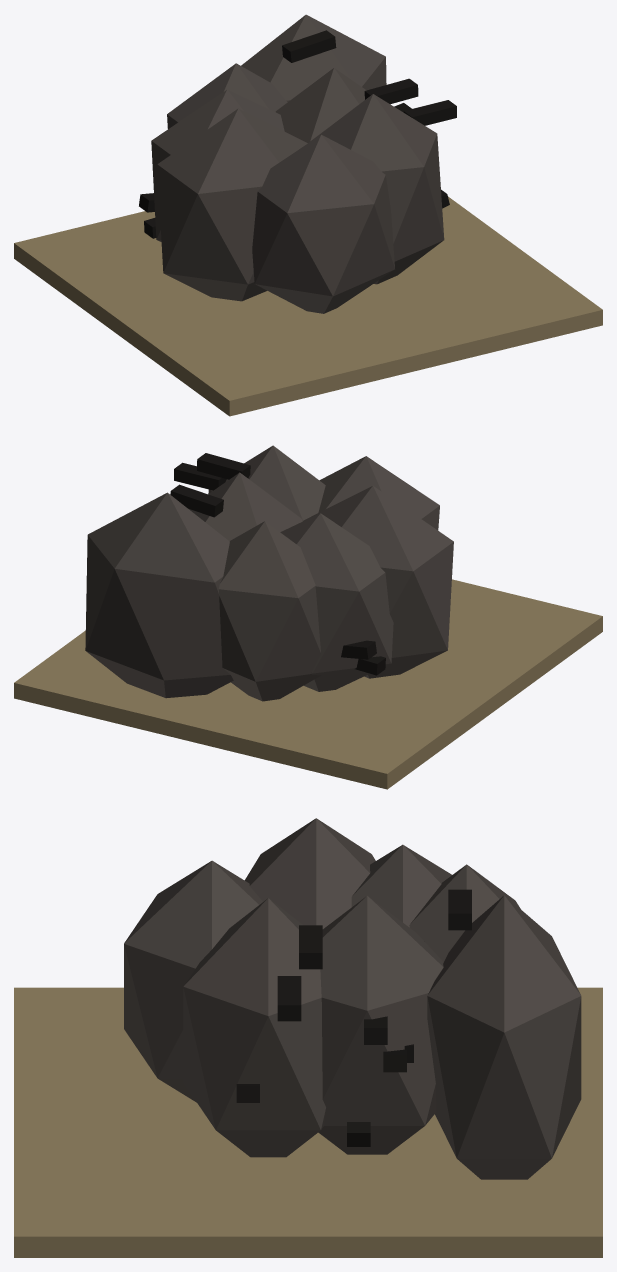
Rendered from Deposit_Coal_Normal.fbx.
3 renders of one model, top to bottom at view 1: azimuth 30°, elevation 25°; view 2: azimuth 150°, elevation 25°; view 3: azimuth 270°, elevation 25°, orthographic. The views are drawn at different scales.
Parts seen in each view (by area): view 1: Deposit_Coal_Normal_Body; view 2: Deposit_Coal_Normal_Body; view 3: Deposit_Coal_Normal_Body.
Part boxes in pixels (<box>): Deposit_Coal_Normal_Body: <box>14,14,602,416</box>; Deposit_Coal_Normal_Body: <box>14,445,602,789</box>; Deposit_Coal_Normal_Body: <box>14,818,602,1257</box>.
Bounding box in the file's own units: 1 × 0.5706 × 1.
